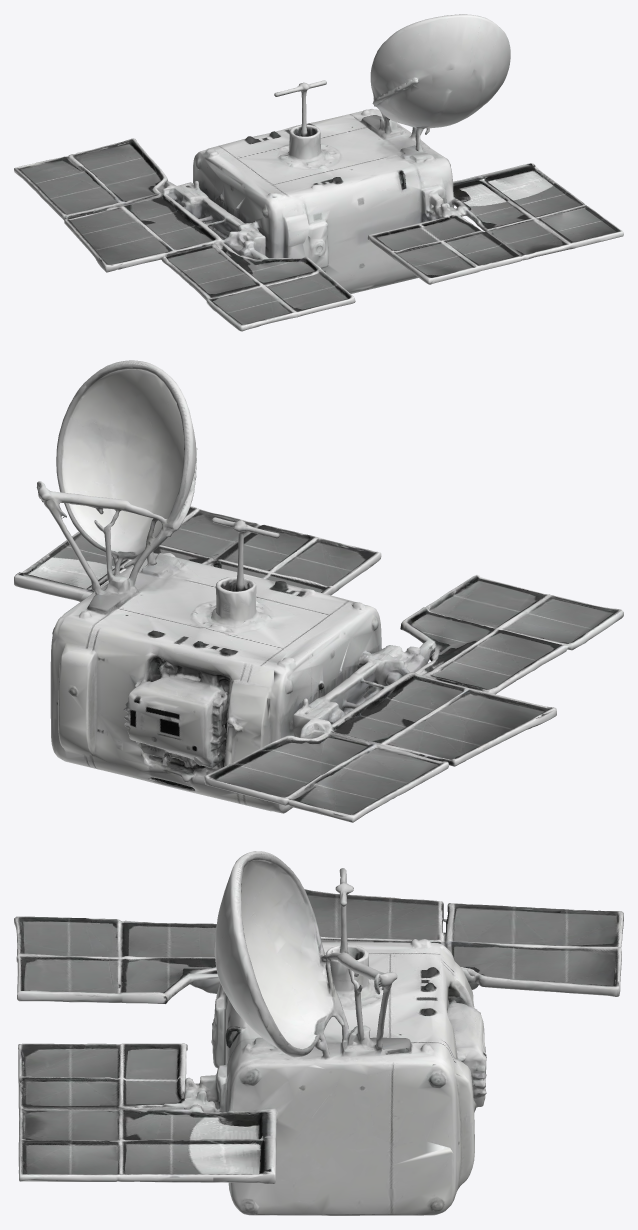
The model's file is apex-cosmos-satelite.glb.
3 renders of one model, top to bottom at view 1: azimuth 30°, elevation 25°; view 2: azimuth 150°, elevation 25°; view 3: azimuth 270°, elevation 25°, orthographic. The views are drawn at different scales.
Bounding box in the file's own units: 2 × 1.15 × 1.79.
Materials: 1 (1 with a texture image).
